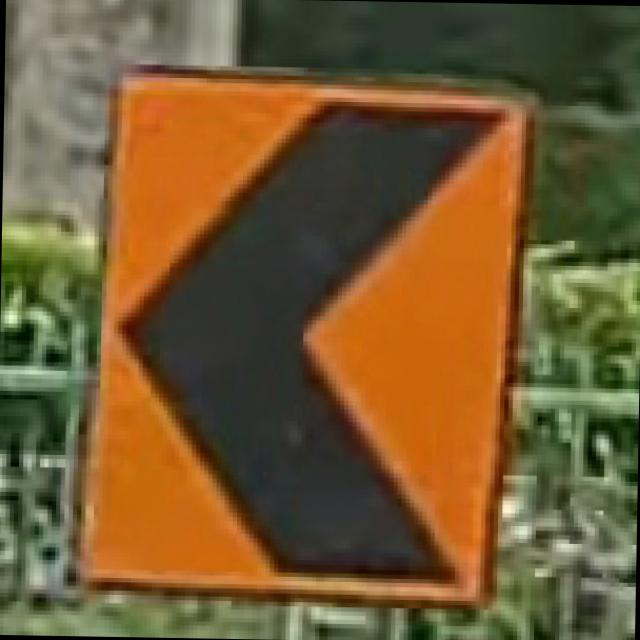curveleft_sign: (71, 55, 535, 610)
